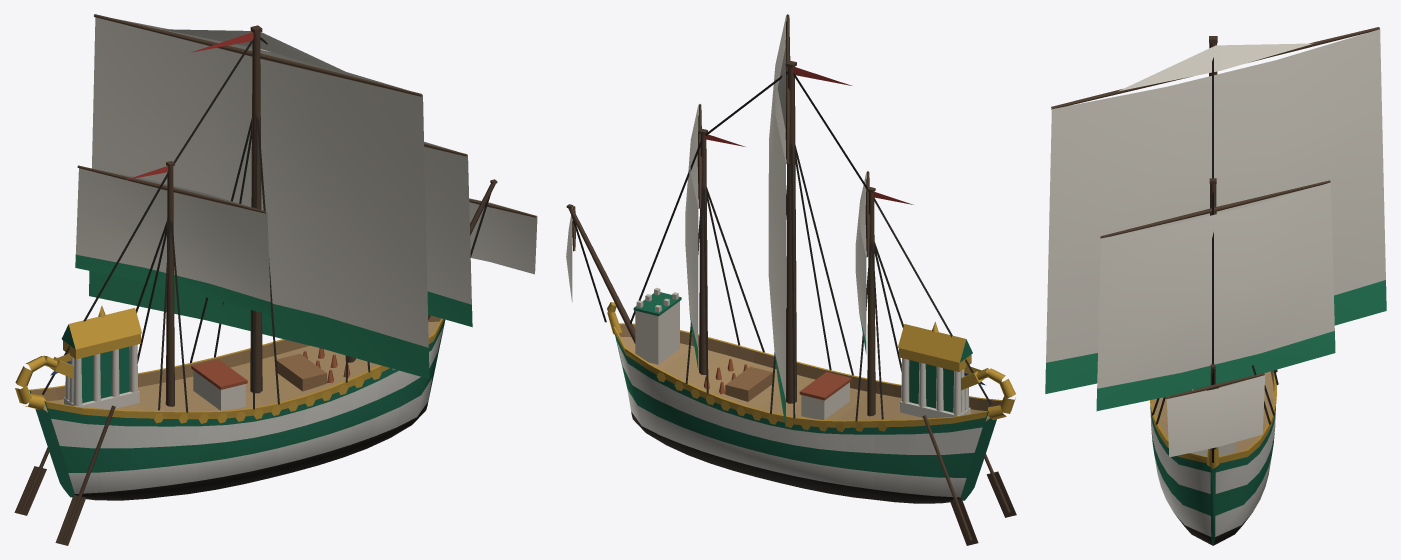
Rendered from titan_usdt.glb.
3 views of the same model, side by side, from view 1: azimuth 30°, elevation 25°; view 2: azimuth 150°, elevation 25°; view 3: azimuth 270°, elevation 25° (orthographic). The views are drawn at different scales.
Parts seen in each view (by area): view 1: sail_main, hull, sail_extra, deck, mast, rigging, yards, flag; view 2: hull, deck, rigging, mast, sail_main, sail_extra, yards, flag; view 3: sail_main, sail_extra, hull, yards, rigging, mast.
Part boxes in pixels (x1,y1,x2,y2): sail_main: (89, 17, 537, 378); hull: (15, 315, 445, 500); sail_extra: (75, 29, 472, 327); deck: (14, 306, 350, 545); mast: (165, 25, 497, 406); rigging: (42, 37, 490, 412); yards: (77, 14, 536, 217); flag: (50, 32, 253, 375); hull: (607, 302, 1015, 503); deck: (633, 287, 1016, 545); rigging: (571, 71, 991, 421); mast: (566, 60, 875, 416); sail_main: (566, 17, 785, 428); sail_extra: (685, 45, 866, 369); yards: (572, 14, 870, 257); flag: (705, 67, 985, 385); sail_main: (1045, 29, 1386, 457); sail_extra: (1096, 43, 1335, 411); hull: (1150, 371, 1277, 545); yards: (1051, 27, 1379, 399); rigging: (1152, 57, 1278, 462); mast: (1207, 36, 1219, 449).
Bounding box in the file's own units: 38.96 × 33.76 × 23.06.
